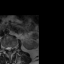CCS_normal: (8, 44, 10, 53)
LFS_normal: (12, 44, 14, 51)
LLS_normal: (10, 44, 12, 52)
RFS_normal: (4, 44, 6, 51)
RLS_normal: (6, 45, 8, 52)
